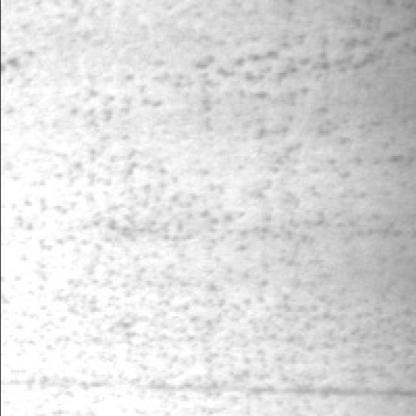pitted_surface: (19, 12, 416, 416)
